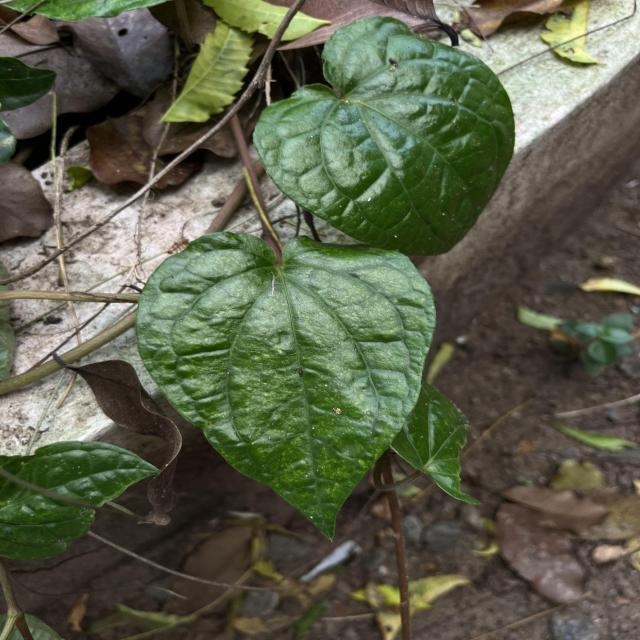Piper betle: (129, 224, 441, 546)
